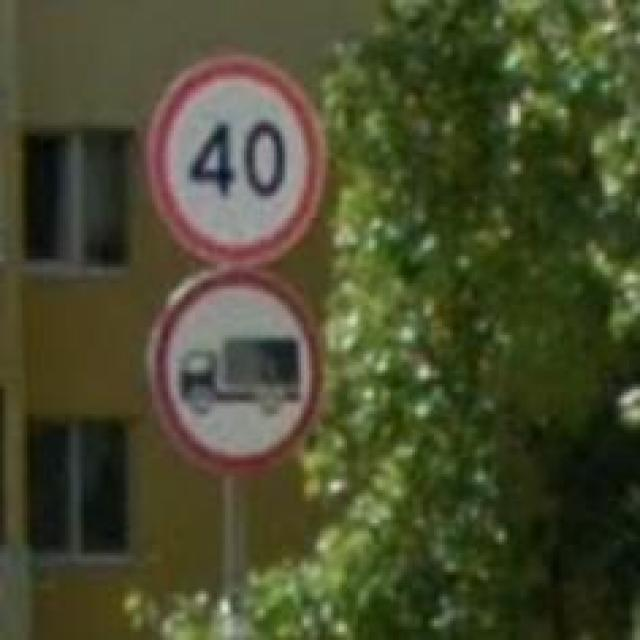traffic_sign: (144, 55, 325, 264), (146, 264, 323, 471)
